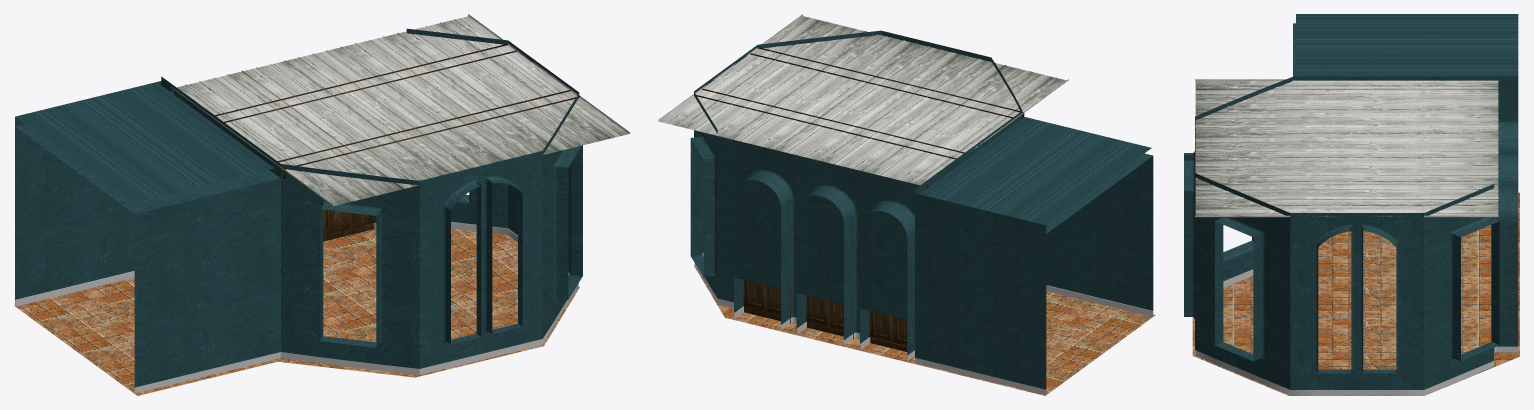
The model's file is Parlor.FBX.
3 views of the same model, side by side, from view 1: azimuth 30°, elevation 25°; view 2: azimuth 150°, elevation 25°; view 3: azimuth 270°, elevation 25° (orthographic). The views are drawn at different scales.
Visible parts, largest first — view 1: Parlor; view 2: Parlor; view 3: Parlor.
Boxes of the visible parts, x1,y1,x2,y2 form: Parlor: (14, 14, 629, 395); Parlor: (658, 14, 1155, 395); Parlor: (1184, 14, 1519, 395).
Bounding box in the file's own units: 1160 × 475 × 791.
